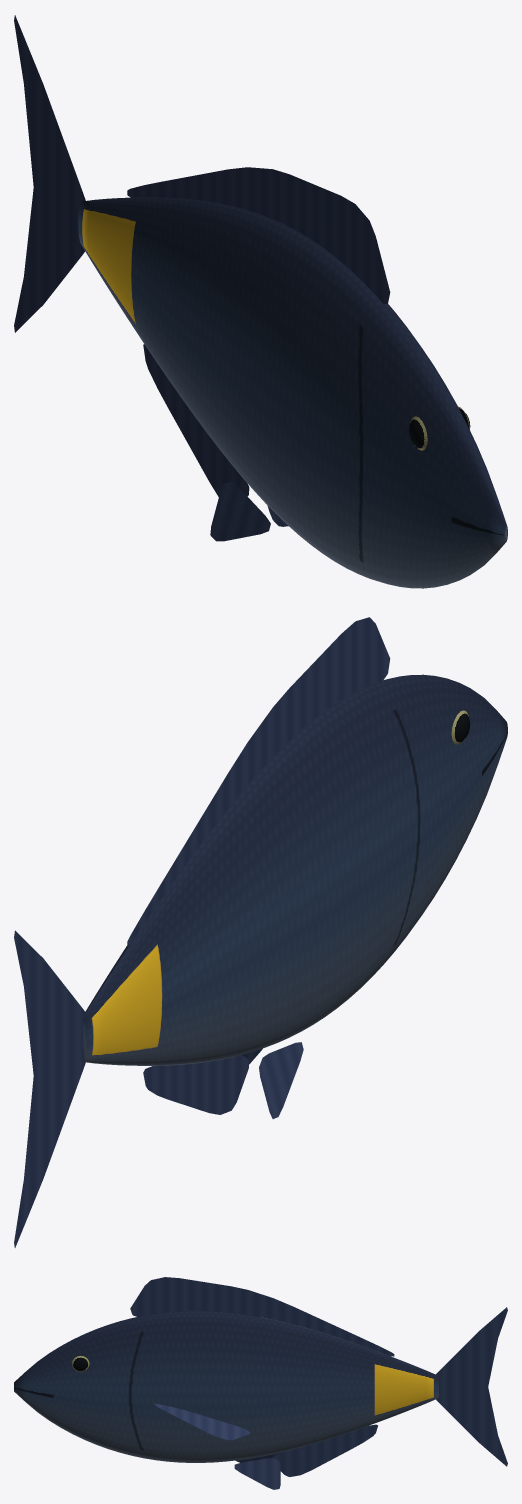
File: surgeonfish.glb
3 views of the same model, one above another, from view 1: azimuth 30°, elevation 25°; view 2: azimuth 150°, elevation 25°; view 3: azimuth 270°, elevation 25° (orthographic). The views are drawn at different scales.
Parts seen in each view (by area): view 1: surgeonfish_lod0; view 2: surgeonfish_lod0; view 3: surgeonfish_lod0.
Part boxes in pixels (x1,y1,x2,y2): surgeonfish_lod0: [14, 15, 507, 588]; surgeonfish_lod0: [14, 617, 507, 1247]; surgeonfish_lod0: [14, 1277, 507, 1489].
Size of what is drawn, in the model's own units: 0.036 by 0.0917 by 0.2.
Materials: 1 (1 with a texture image).
